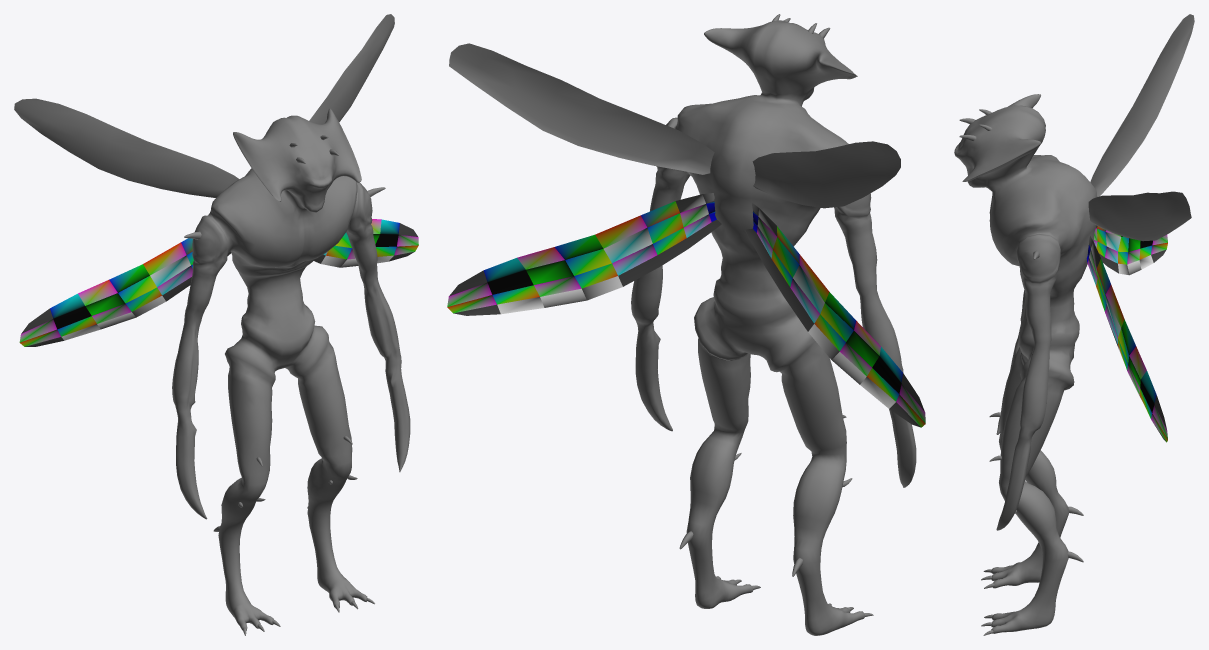
File: SM_Grunt.fbx
3 renders of one model, left to right at view 1: azimuth 30°, elevation 25°; view 2: azimuth 150°, elevation 25°; view 3: azimuth 270°, elevation 25°, orthographic. The views are drawn at different scales.
Parts seen in each view (by area): view 1: grunt_low, Upperwing_low, Lowerwing_low; view 2: grunt_low, Lowerwing_low, Upperwing_low; view 3: grunt_low, Upperwing_low, Lowerwing_low, Upknee_low.
Boxes of the visible parts, x1=… form: grunt_low: x1=172, y1=108, x2=410, y2=630; Upperwing_low: x1=14, y1=14, x2=394, y2=197; Lowerwing_low: x1=19, y1=219, x2=418, y2=346; grunt_low: x1=631, y1=20, x2=916, y2=635; Lowerwing_low: x1=447, y1=193, x2=925, y2=427; Upperwing_low: x1=449, y1=43, x2=900, y2=208; grunt_low: x1=954, y1=94, x2=1097, y2=633; Upperwing_low: x1=1088, y1=14, x2=1194, y2=241; Lowerwing_low: x1=1086, y1=225, x2=1167, y2=442; Upknee_low: x1=959, y1=109, x2=1083, y2=562.
Bounding box in the file's own units: 1.78 × 2.1 × 0.9155.
